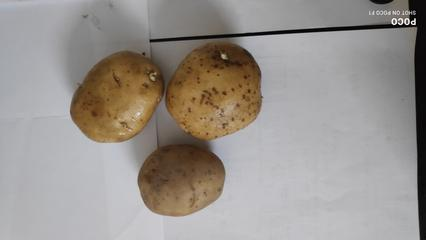potato: (171, 46, 273, 147), (73, 42, 160, 153), (143, 137, 229, 213)
